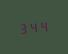four: (29, 20, 38, 33), (39, 19, 48, 32)
three: (18, 21, 27, 34)
